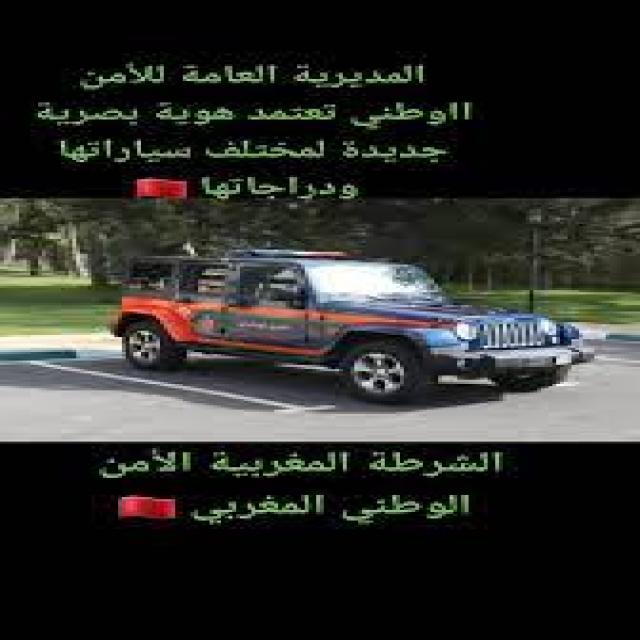police: (102, 237, 584, 399)
